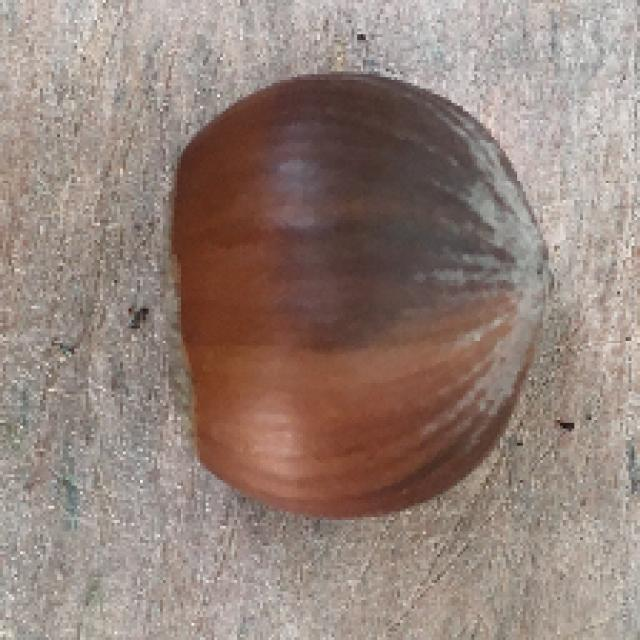damagedHazelnut: (150, 69, 572, 535)
